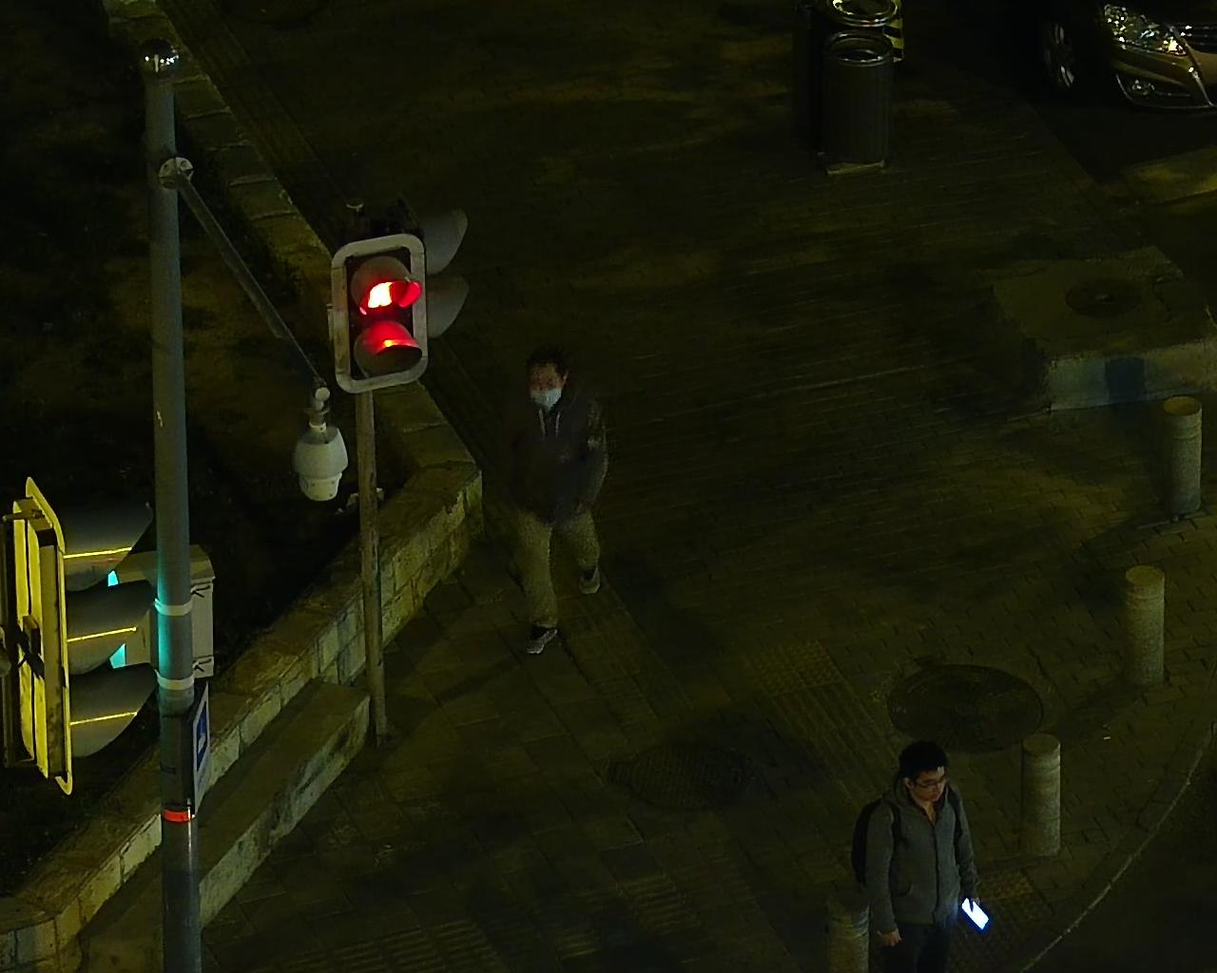person: (470, 367, 613, 677), (840, 734, 999, 973)
